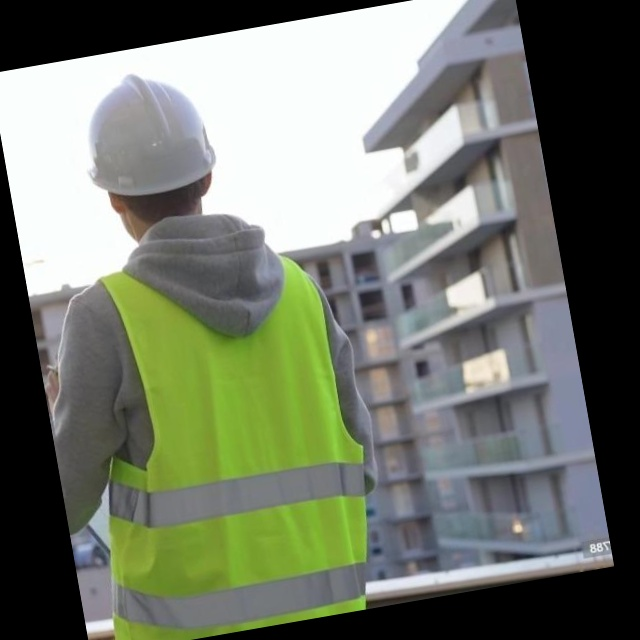Con_Casco: (73, 59, 229, 248)
Con_Chaleco: (49, 227, 389, 640)
